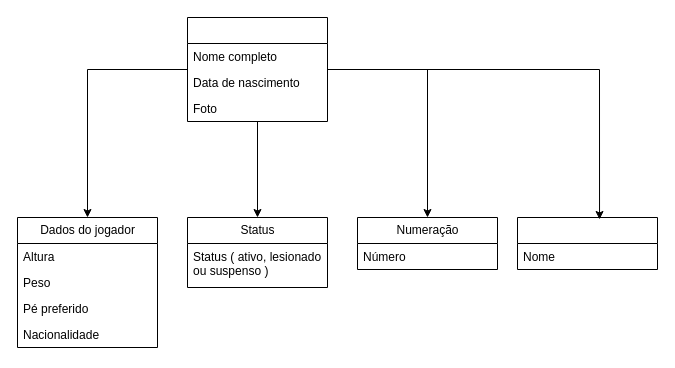
Image size: 675x368. Some labels were removed from this diagram. Here are the shapes that lost their labels. From the top down, the box of each, then its label:
(186, 16, 328, 122): Jogador
(516, 216, 658, 270): Posição
